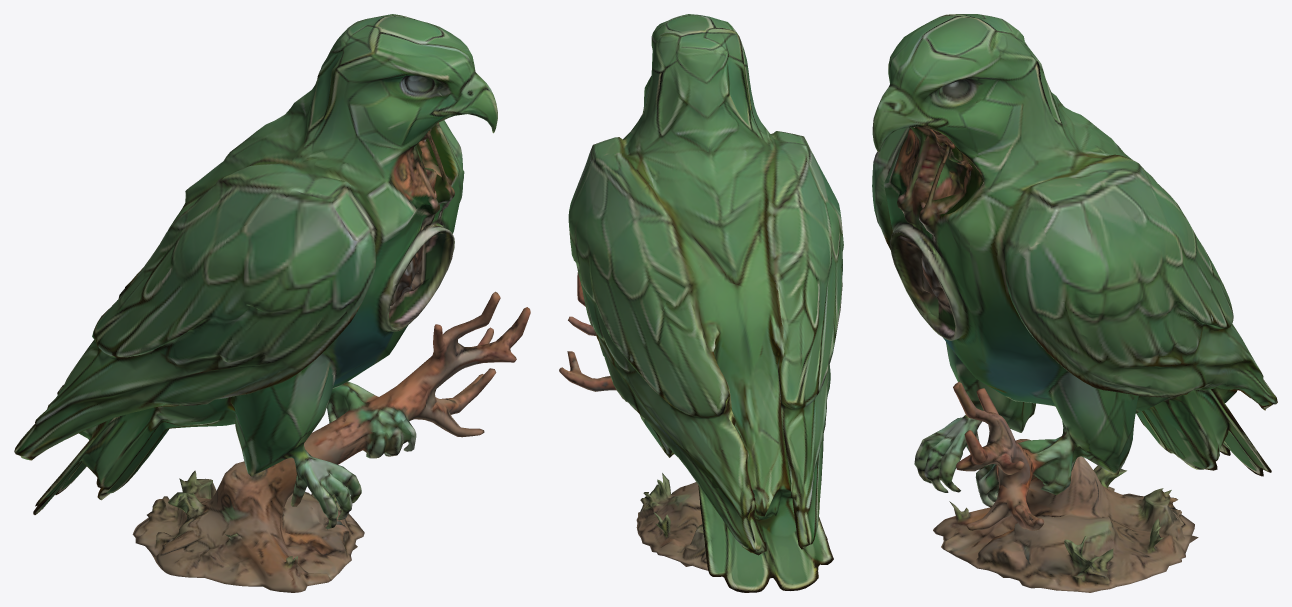
The model's file is Chirp.glb.
3 views of the same model, side by side, from view 1: azimuth 30°, elevation 25°; view 2: azimuth 150°, elevation 25°; view 3: azimuth 270°, elevation 25° (orthographic). The views are drawn at different scales.
Visible parts, largest first — view 1: MechanicalFalcon; view 2: MechanicalFalcon; view 3: MechanicalFalcon.
Boxes of the visible parts, x1,y1,x2,y2 form: MechanicalFalcon: [14, 14, 530, 592]; MechanicalFalcon: [559, 14, 843, 592]; MechanicalFalcon: [872, 14, 1277, 592].
Bounding box in the file's own units: 0.3504 × 0.45 × 0.2924.
Materials: 1 (1 with a texture image).
